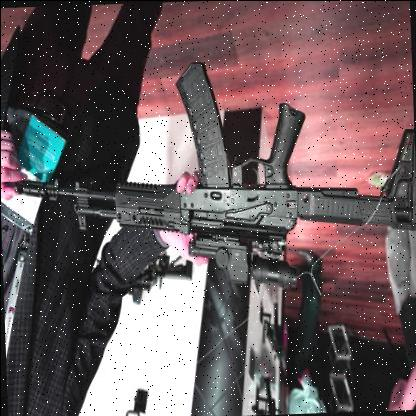rifle: (32, 63, 416, 320)
